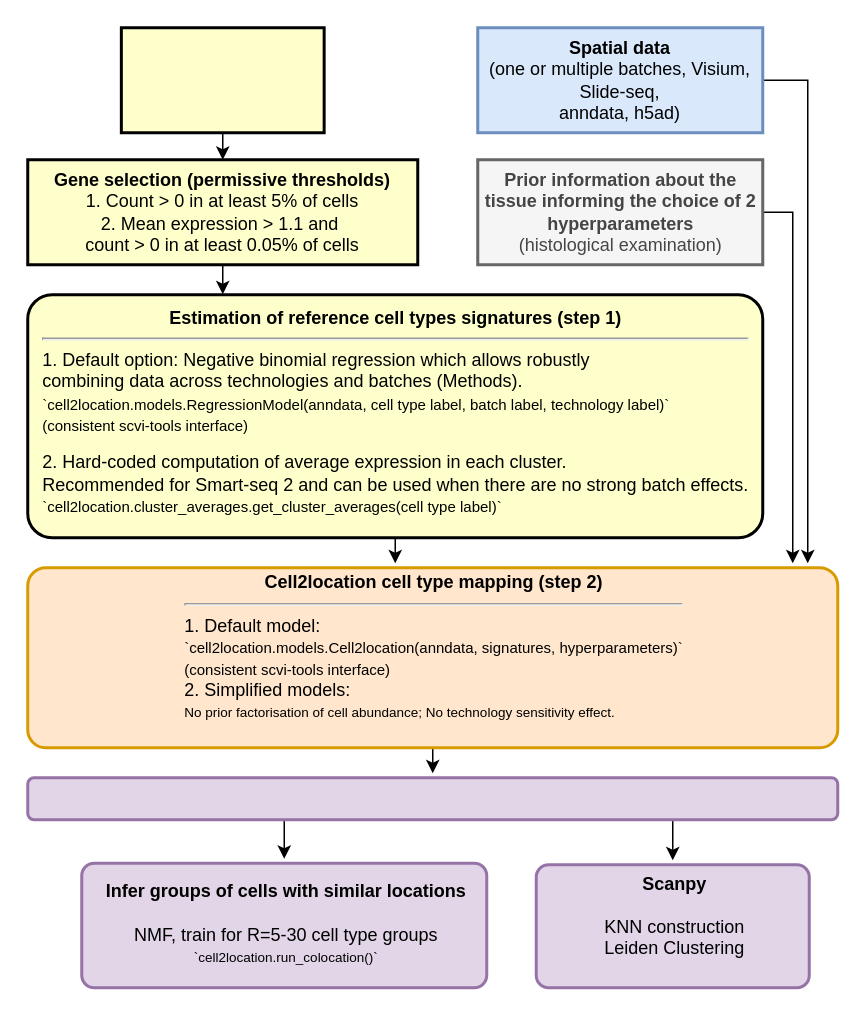
Some shapes in this 864 by 1014 pixel diagram are drawn without their labels. The shapes that lost their labels are listed below. From the top down, each one's centre as x and y in pixels, then its label:
the point at 222,80: sc/sc RNA-seq reference data (anndata, h5ad)
the point at 432,798: Downstream analysis & Visualisation (step 3)
